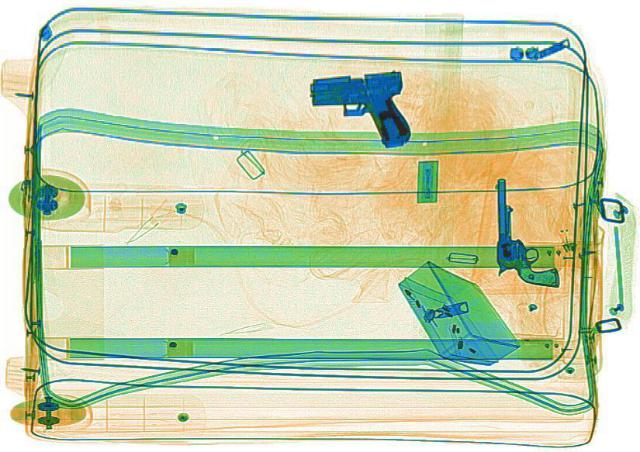Gun: (299, 58, 433, 159), (485, 175, 559, 287)
